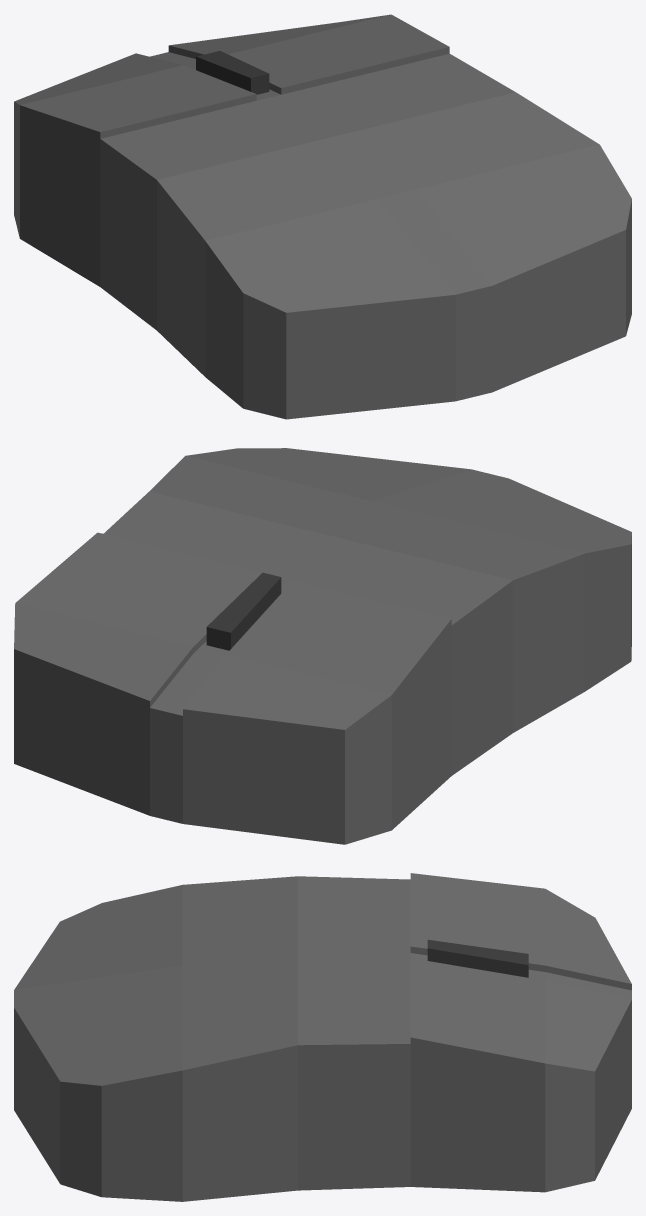
The model's file is pc_mouse.fbx.
The picture shows the model from 3 angles, top to bottom: view 1: azimuth 30°, elevation 25°; view 2: azimuth 150°, elevation 25°; view 3: azimuth 270°, elevation 25°; orthographic projection. The views are drawn at different scales.
Parts seen in each view (by area): view 1: H_PC_Mouse; view 2: H_PC_Mouse; view 3: H_PC_Mouse.
Boxes of the visible parts, bbox=[...] form: H_PC_Mouse: bbox=[14, 14, 631, 419]; H_PC_Mouse: bbox=[14, 448, 631, 844]; H_PC_Mouse: bbox=[14, 873, 631, 1201].
Size of the model in its own units: 50.16 by 69.88 by 19.7.
